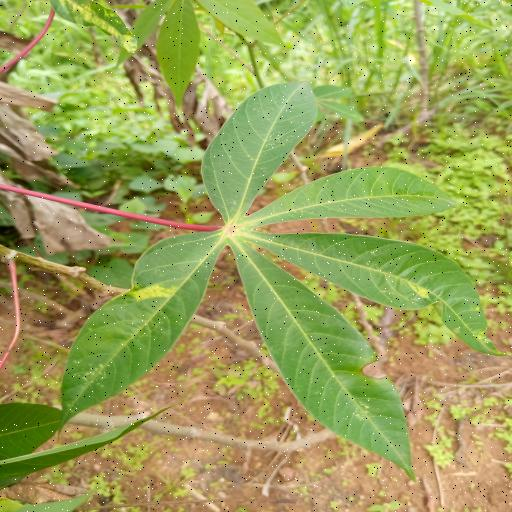Cassava_Mosaic: (57, 79, 512, 483)
